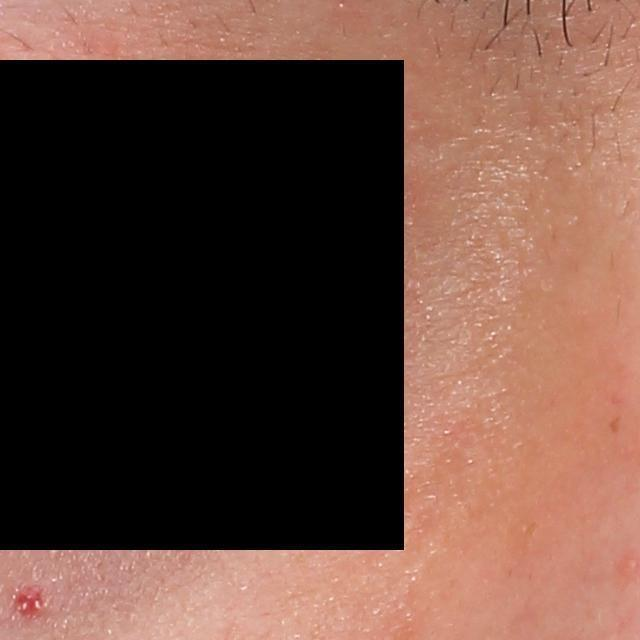other: (10, 581, 43, 621)
papule: (622, 554, 640, 576)
